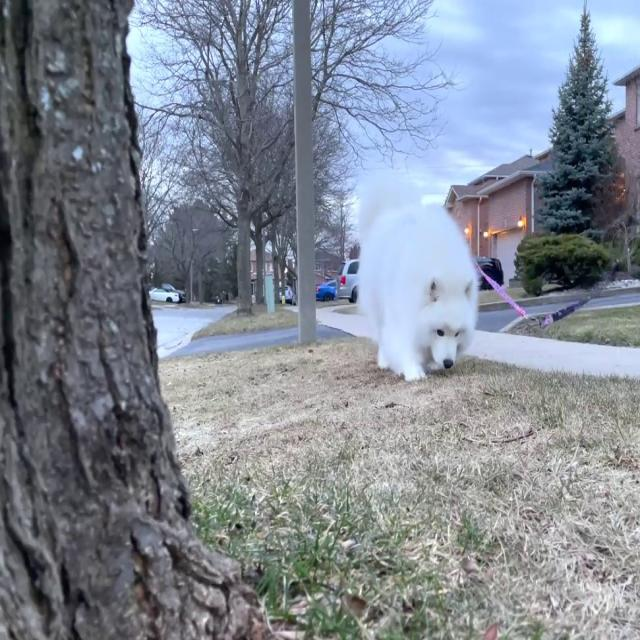Dog: (355, 168, 481, 386)
